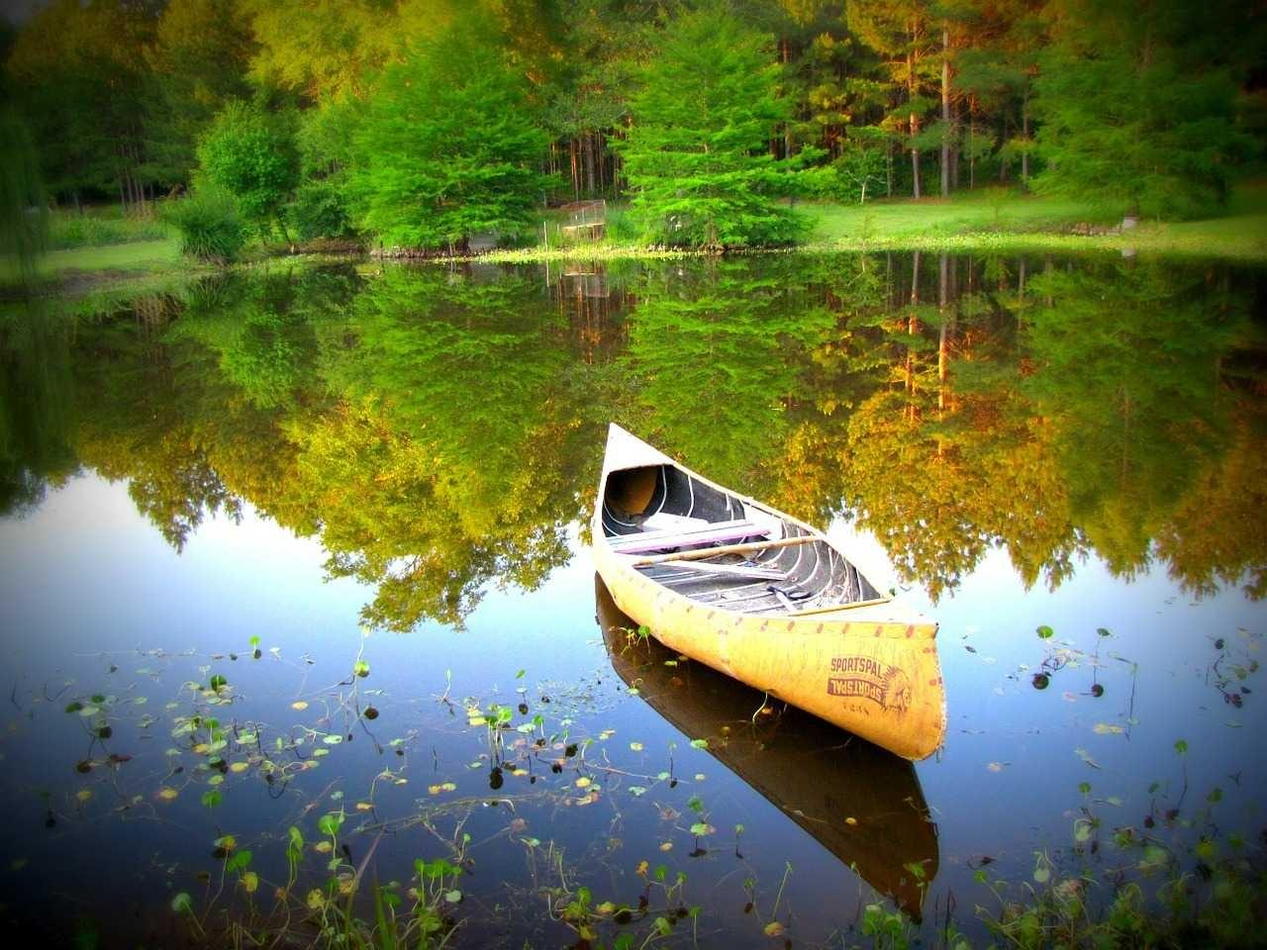kayak: (591, 420, 948, 765)
